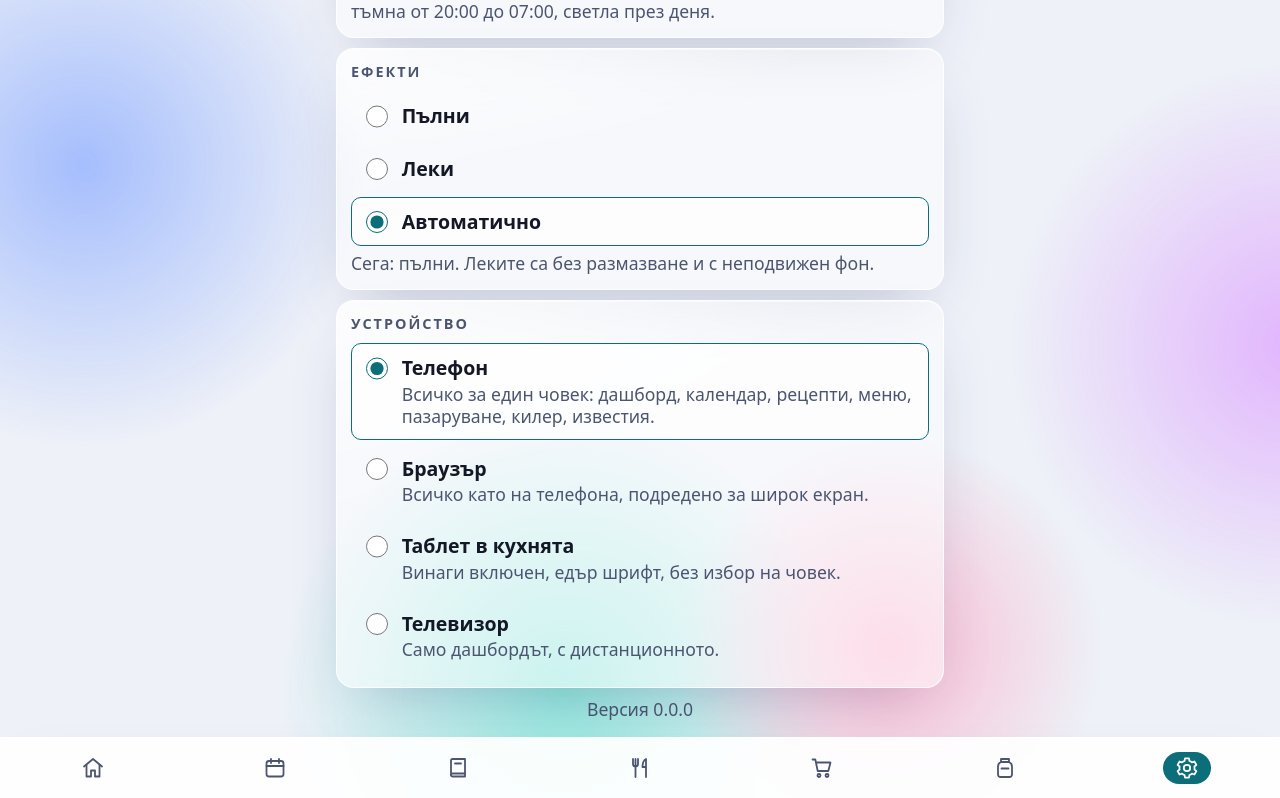
Test: SettingsScreen › „Откажи“ оставя „Телефон“
(page scrolled)
Click the radio button labelled "Телевизор Само дашбордът, с дистанционното." at (377, 624), box [366,613,388,635]
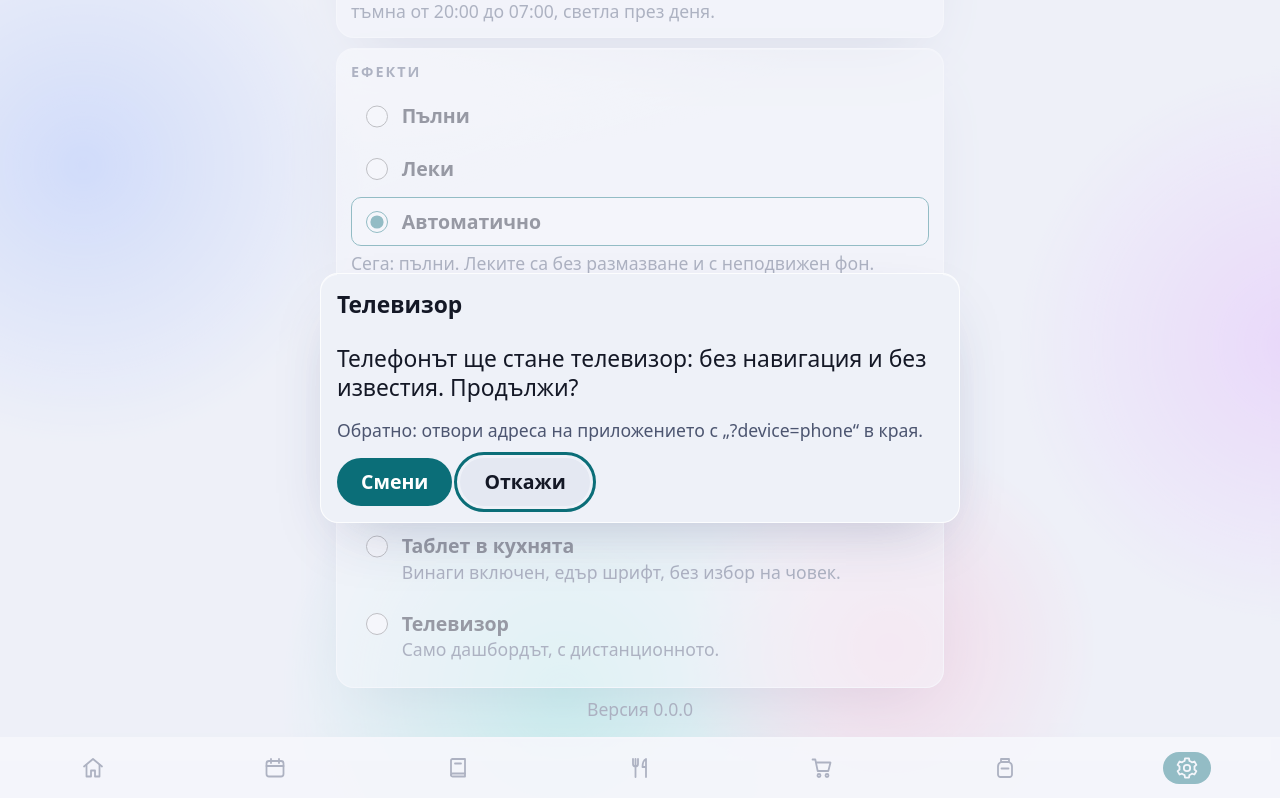
Click the button "Откажи" at (525, 482), box [460,458,590,506]
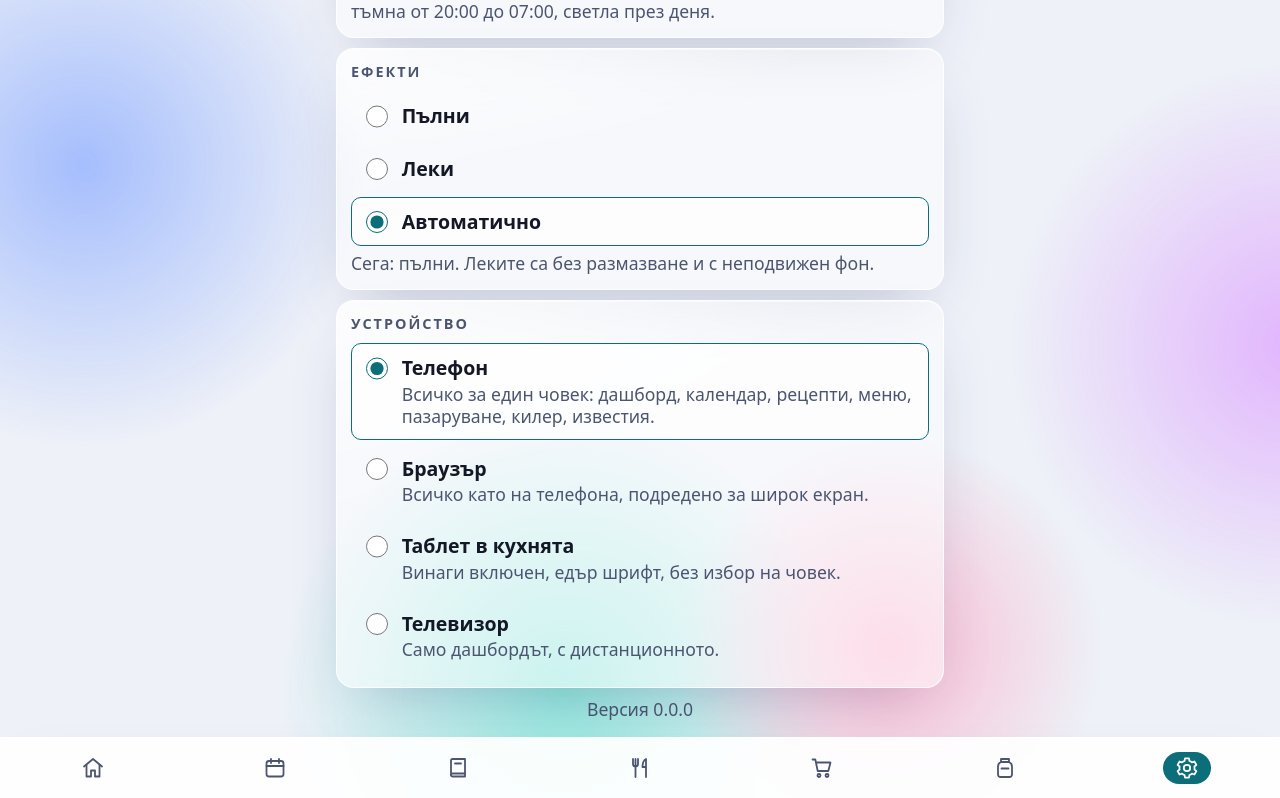
expect the radio button labelled "Телефон" is checked: met, box [366,357,388,380]
expect the dialog is gone: met
